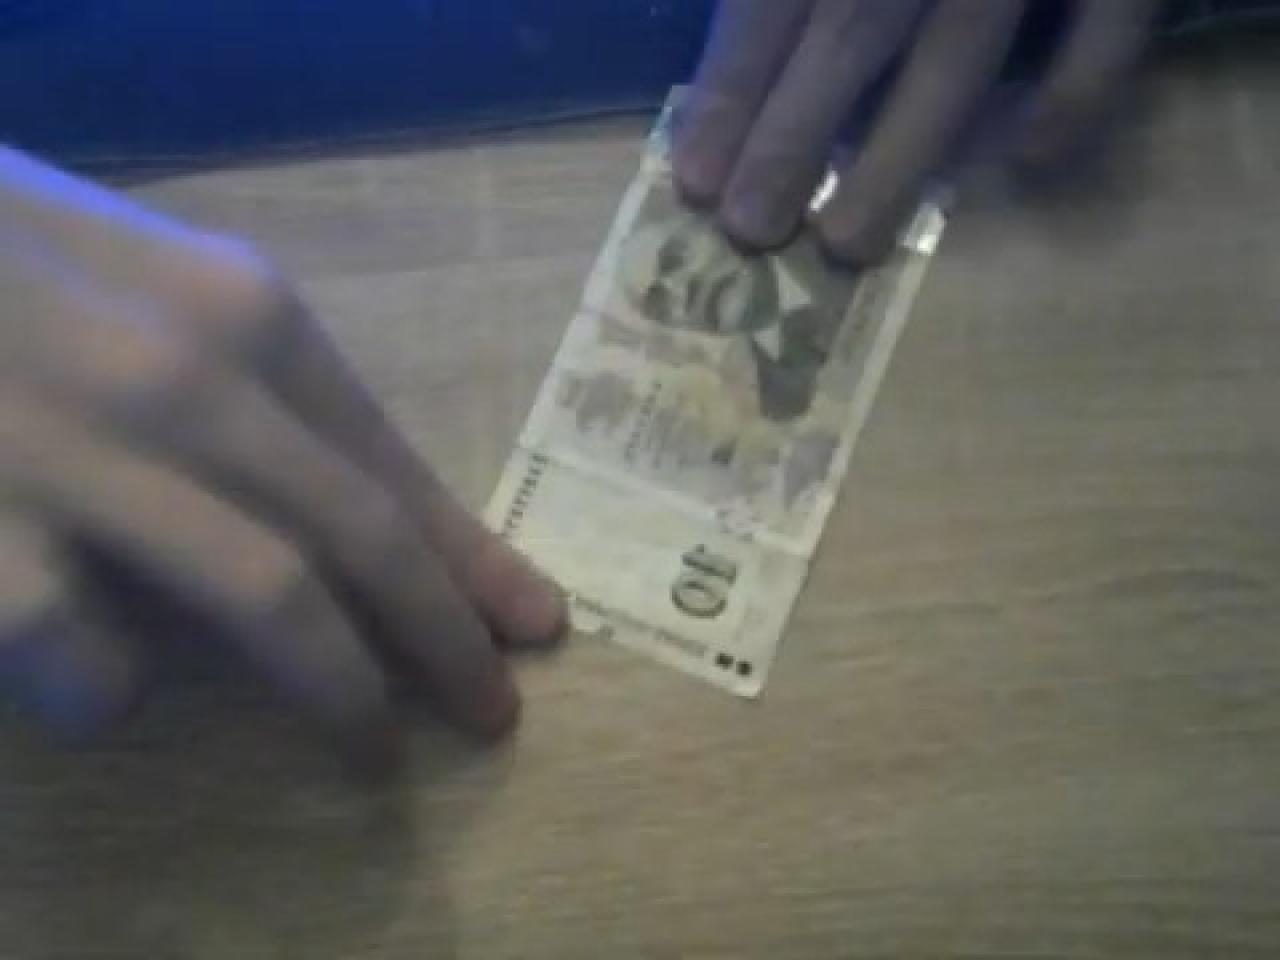10leva: (483, 0, 1029, 699)
